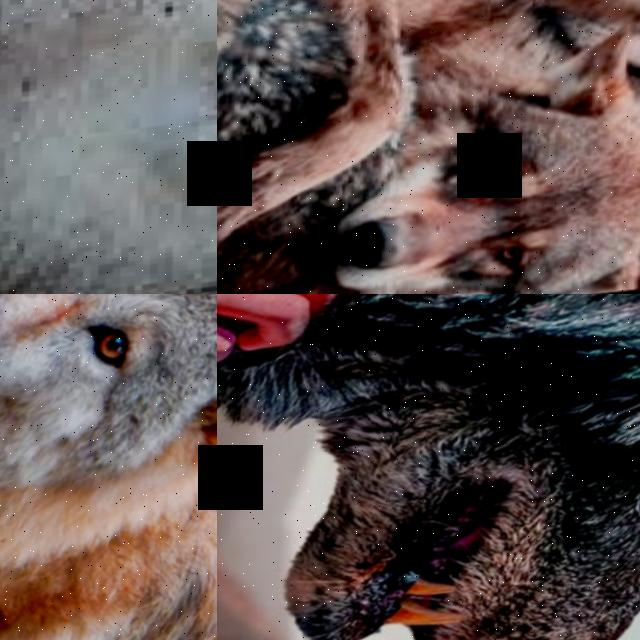wolf: (217, 294, 640, 640), (264, 41, 640, 294), (0, 294, 217, 640), (0, 0, 217, 294), (217, 0, 640, 149), (217, 0, 428, 294)
